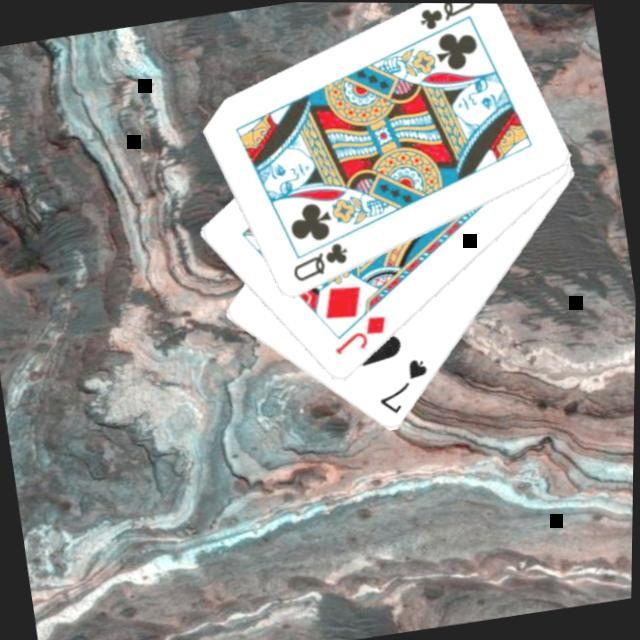7S: (369, 355, 437, 422)
JD: (326, 312, 394, 361)
QC: (285, 239, 355, 289), (411, 2, 480, 37)
